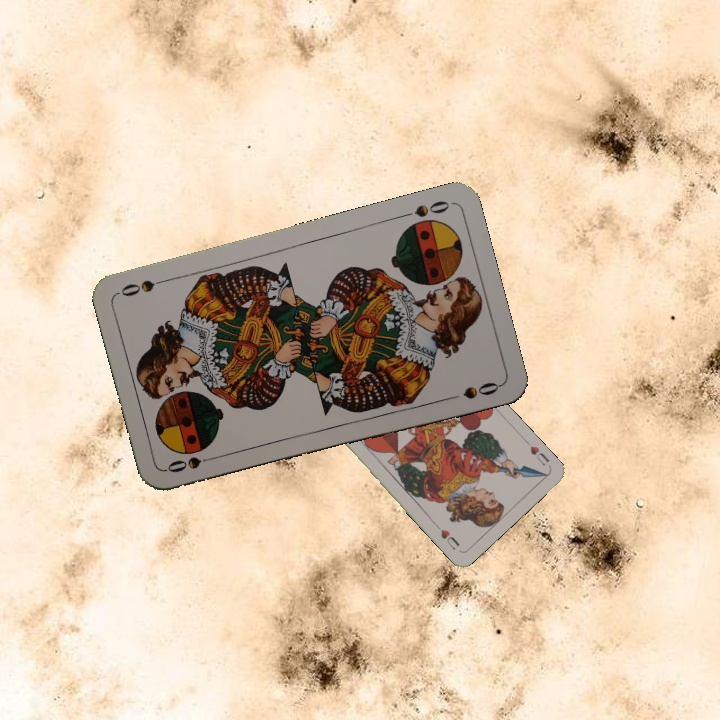HU: (526, 442, 552, 469)
SO: (395, 196, 452, 221), (163, 451, 221, 475)
